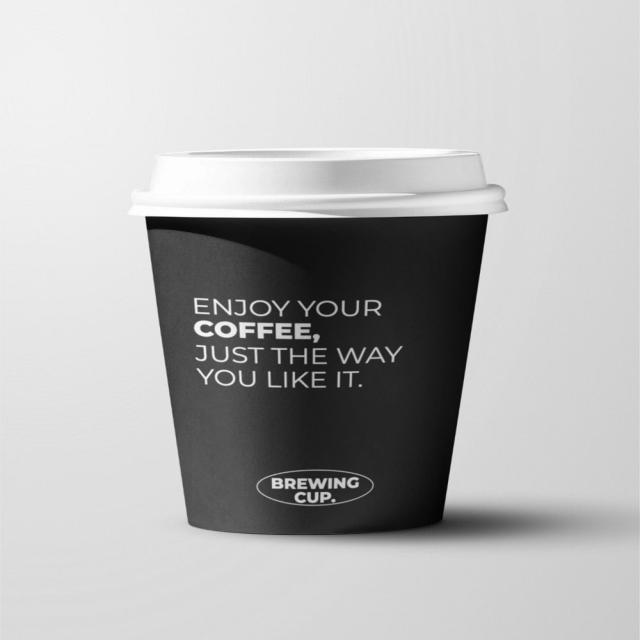paper cup: (128, 147, 508, 535)
